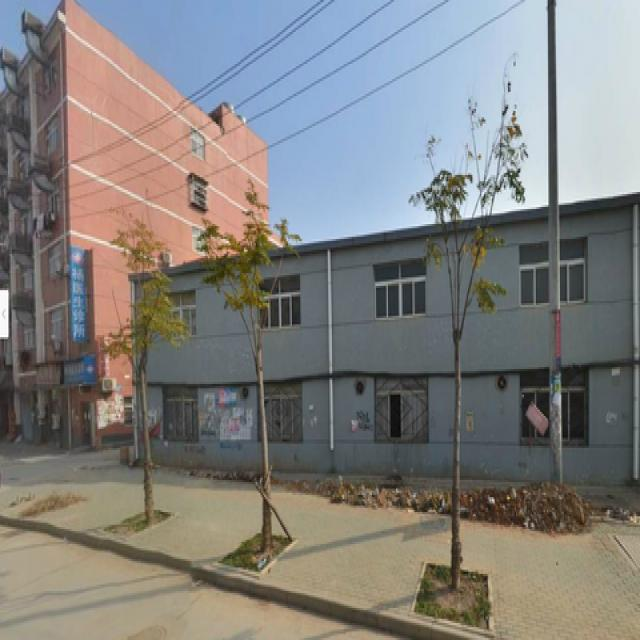koel: (426, 139, 498, 544), (213, 213, 290, 482), (116, 237, 163, 469)
